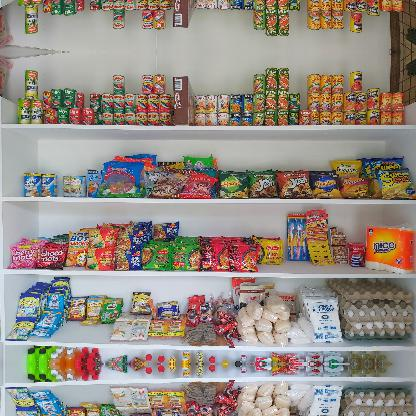Koko-Krunch: (173, 76, 194, 126), (173, 0, 195, 28)
